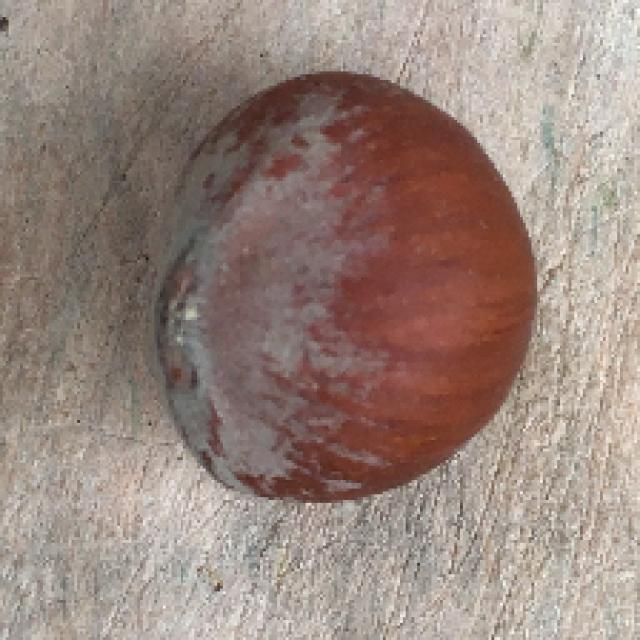QualityHazelnut: (141, 69, 544, 510)
